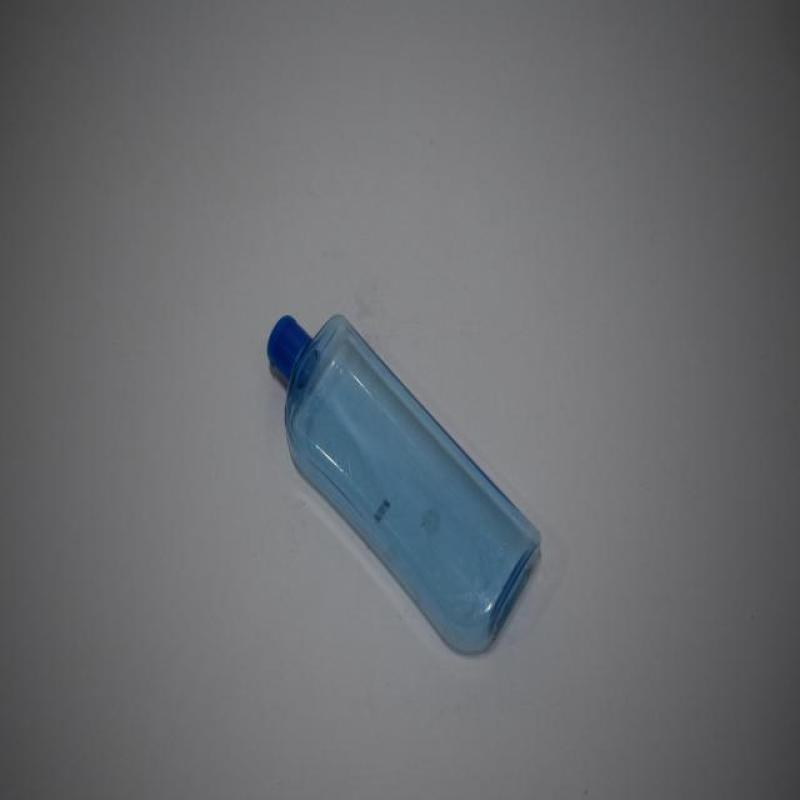botella: (267, 316, 543, 656)
